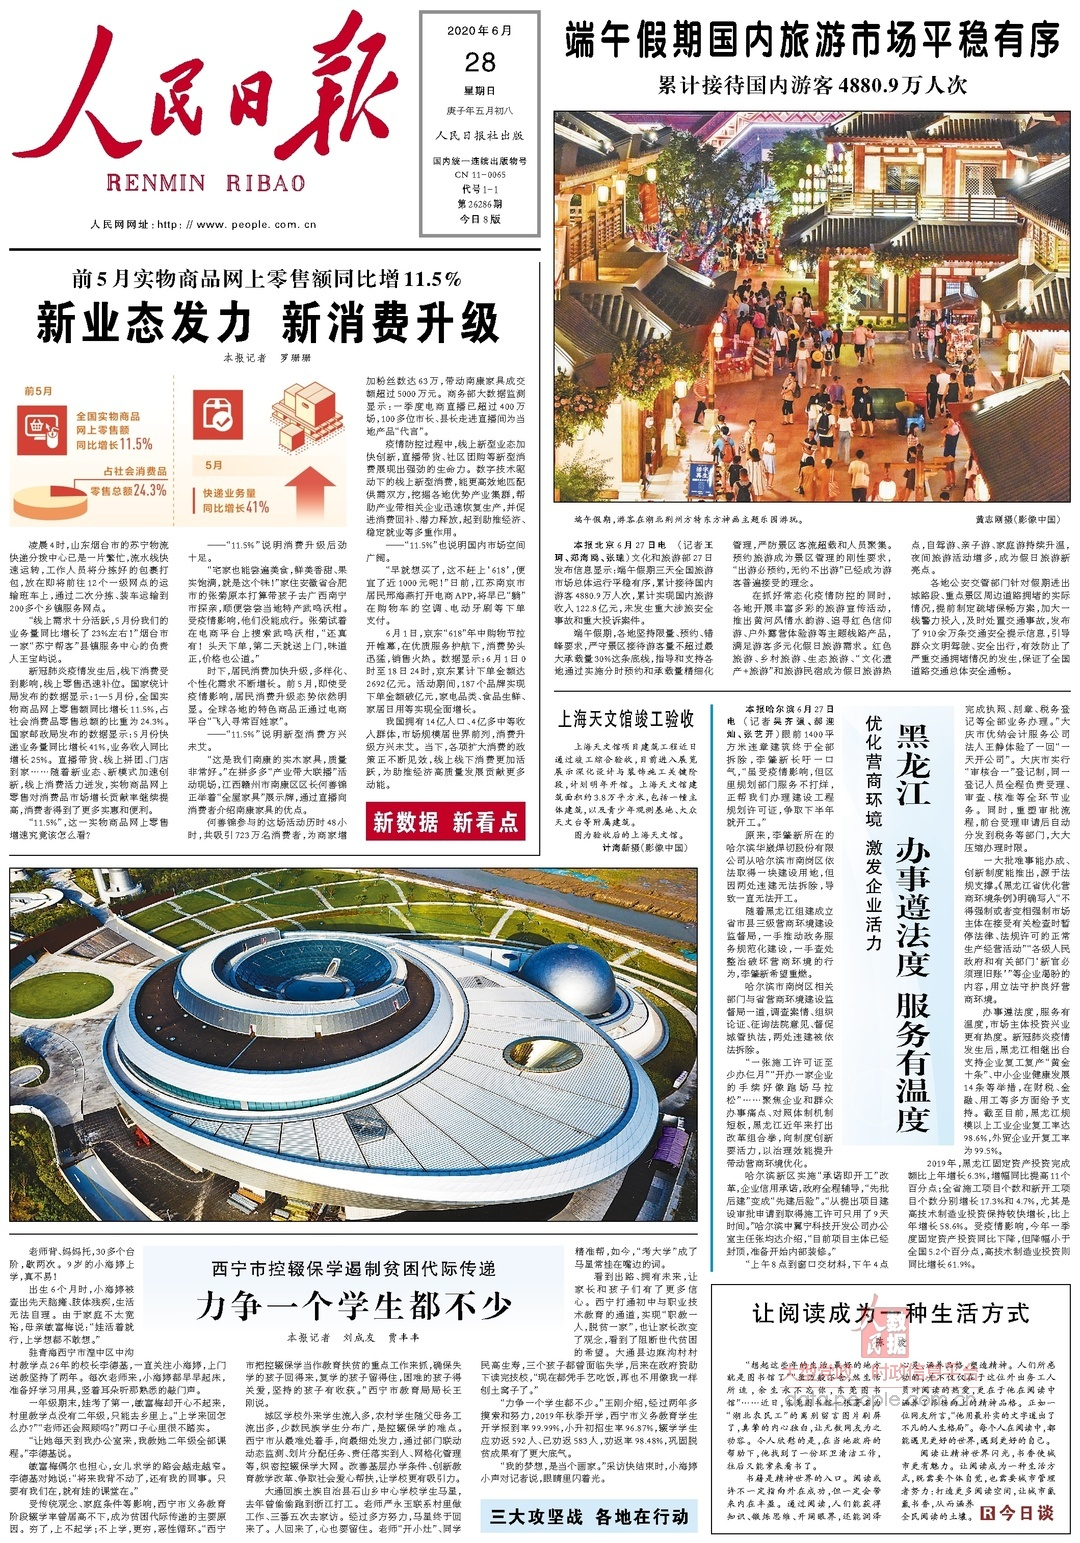pic: (5, 864, 702, 1228), (548, 106, 1076, 509)
